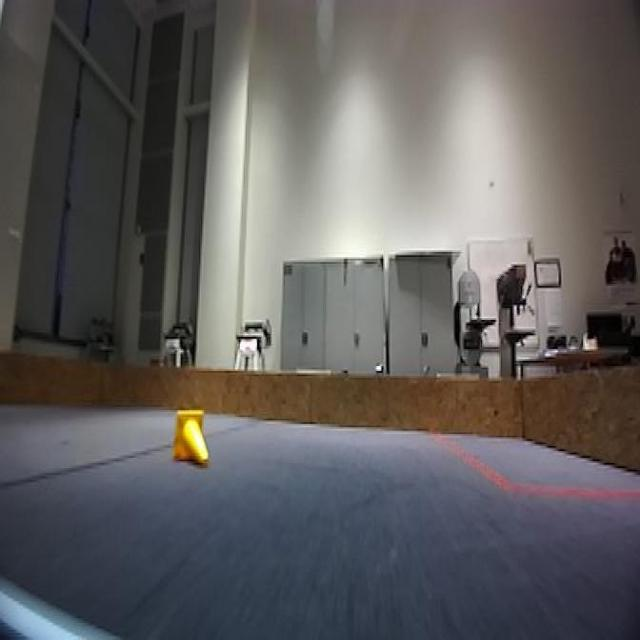frc_cone: (170, 403, 210, 468)
